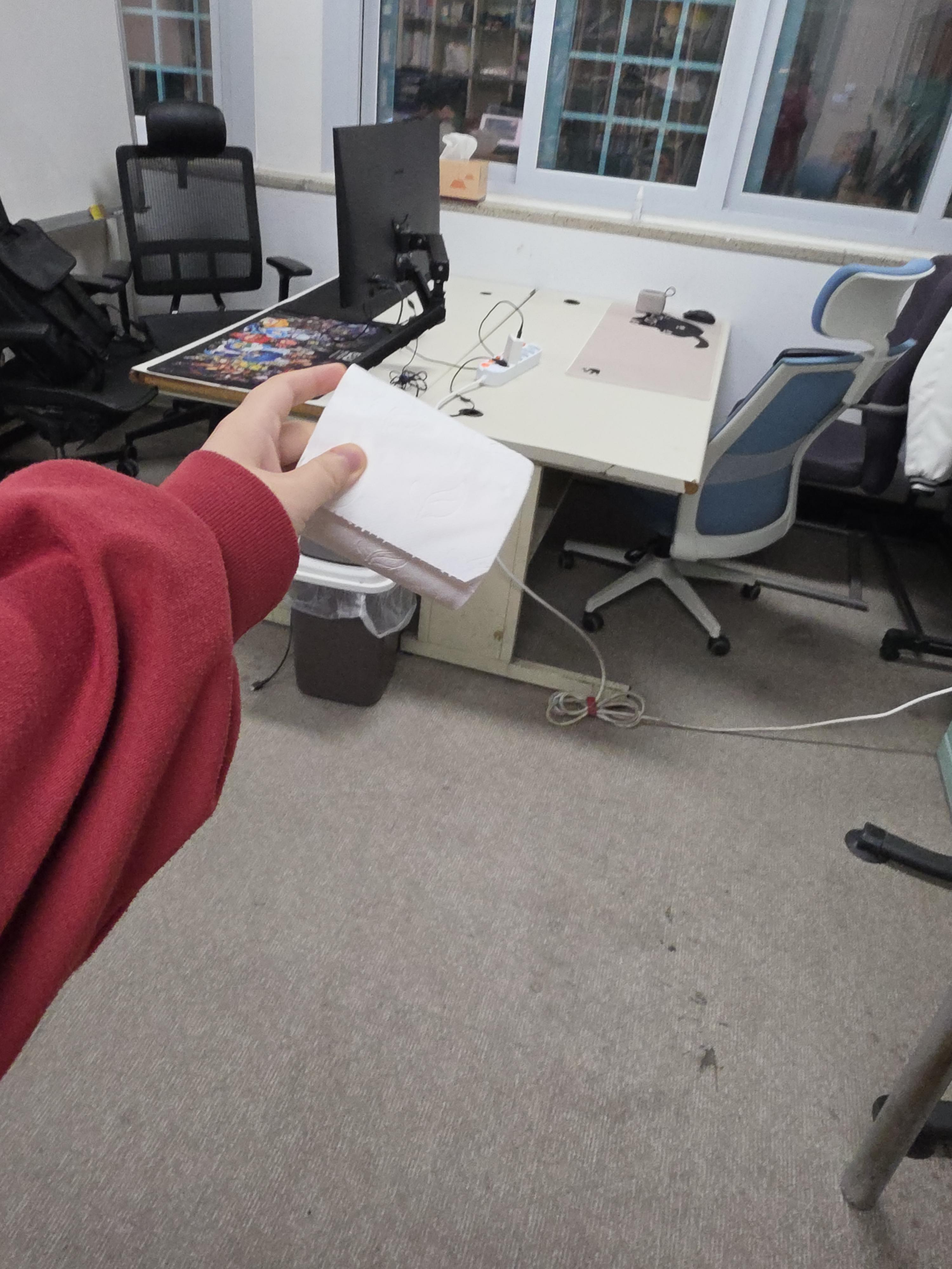tissue: (291, 362, 534, 609), (440, 132, 488, 203)
